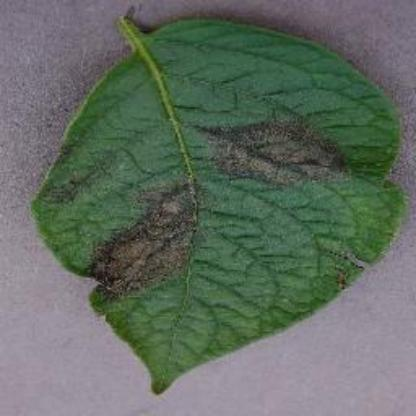Late-Blight: (27, 7, 408, 400)
